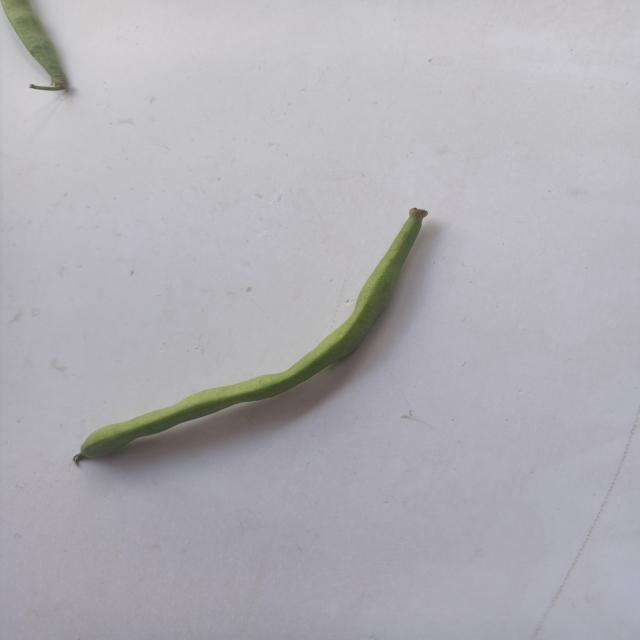Beans: (69, 190, 433, 496)
